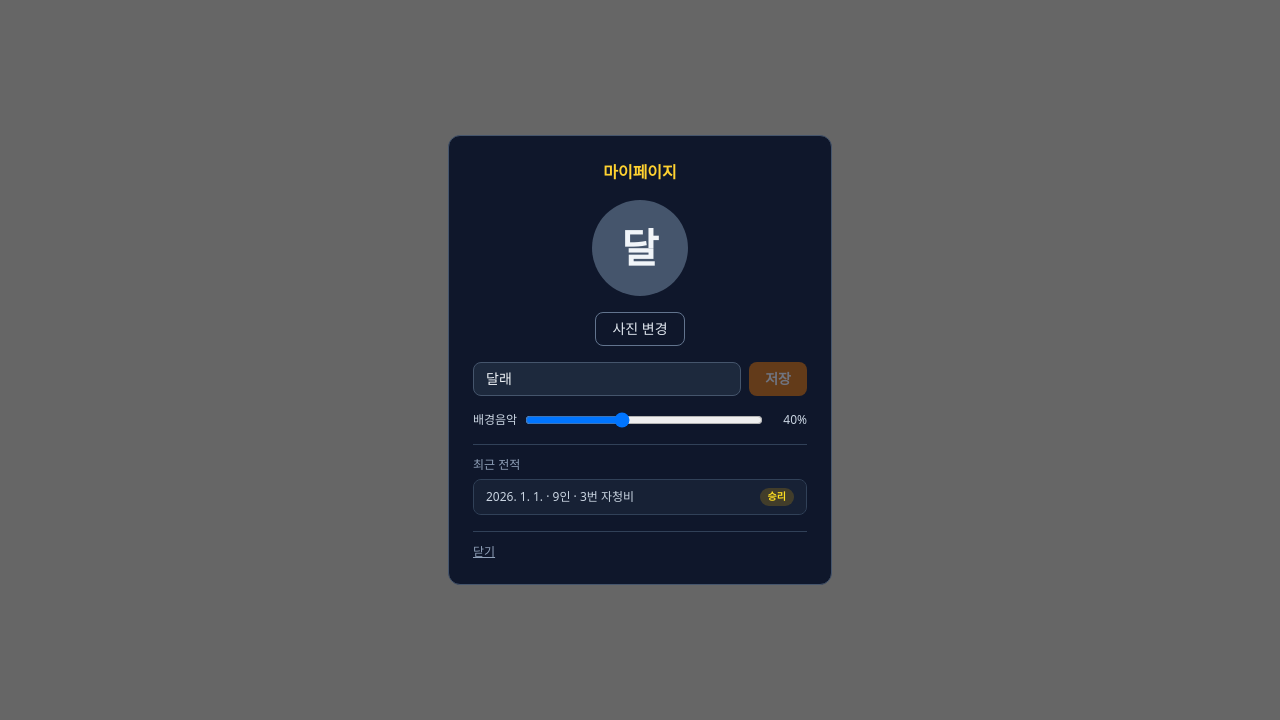
Test: 마이페이지 (requirements 11번) › 마운트 시 최근 전적을 불러와 표시하고, 클릭하면 그 판의 전원이 펼쳐진다 (2번 항목)
Expected: the text "승리" is shown, x1=760 y1=488 x2=794 y2=506
Click the text "2026. 1. 1. · 9인 · 3번 자청비".
click(560, 497)  # box x1=486 y1=489 x2=634 y2=505
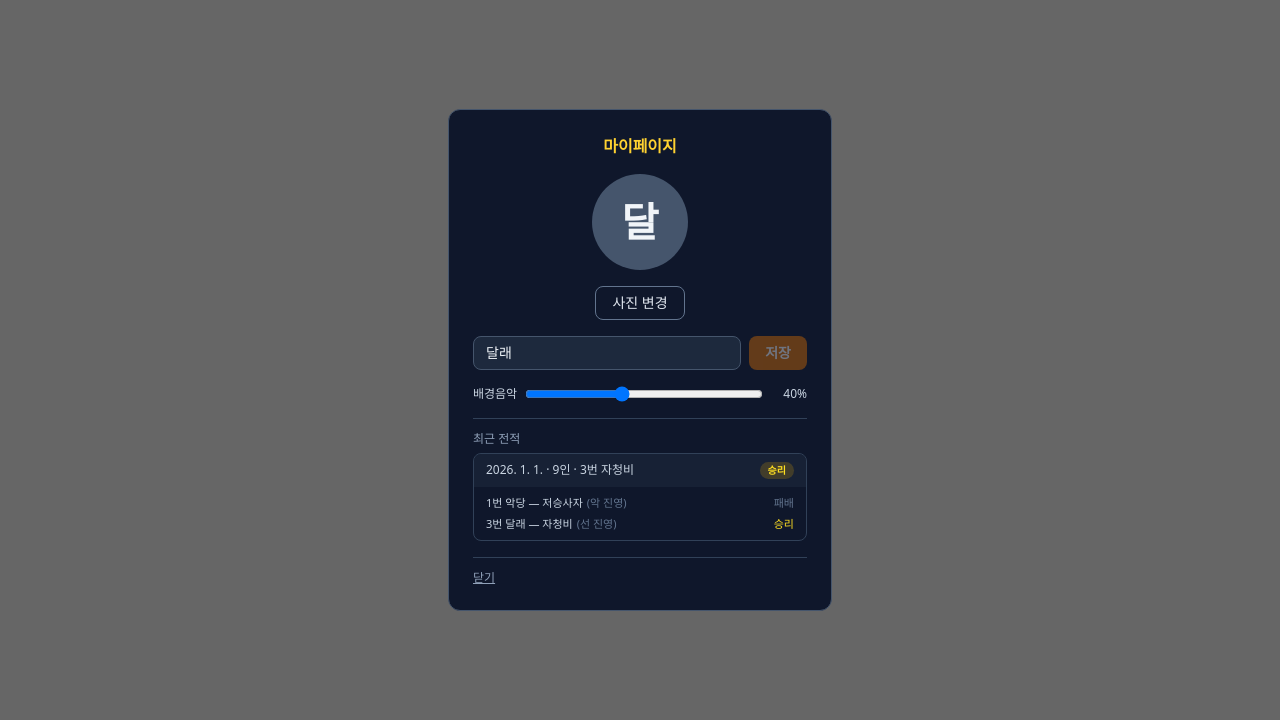
Expected: the text "1번 악당 — 저승사자(악 진영)" is shown, x1=486 y1=495 x2=627 y2=512
Expected: the text "3번 달래 — 자청비(선 진영)" is shown, x1=486 y1=516 x2=616 y2=532
